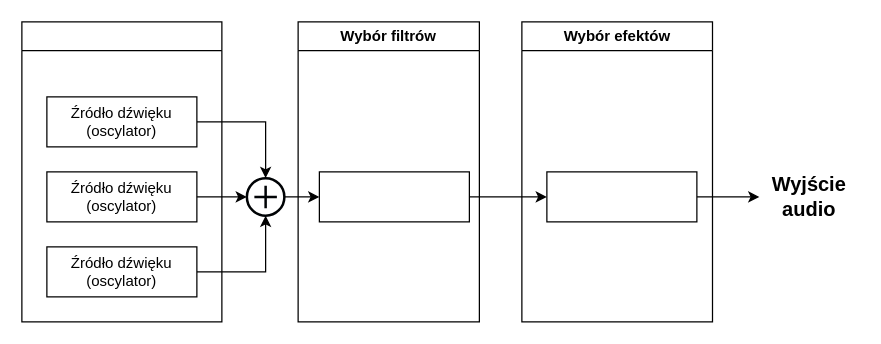
Image size: 881x344. Some labels were removed from this diagram. The shapes that lost their labels are listed below. From the top down, each one's centre as x and y in pixels, then its label:
At pixel 121 171: "Wybór źródeł dźwięku".
At pixel 393 196: "Przetwarzanie (subtrakcja)".
At pixel 621 196: "Wzbogacanie".
